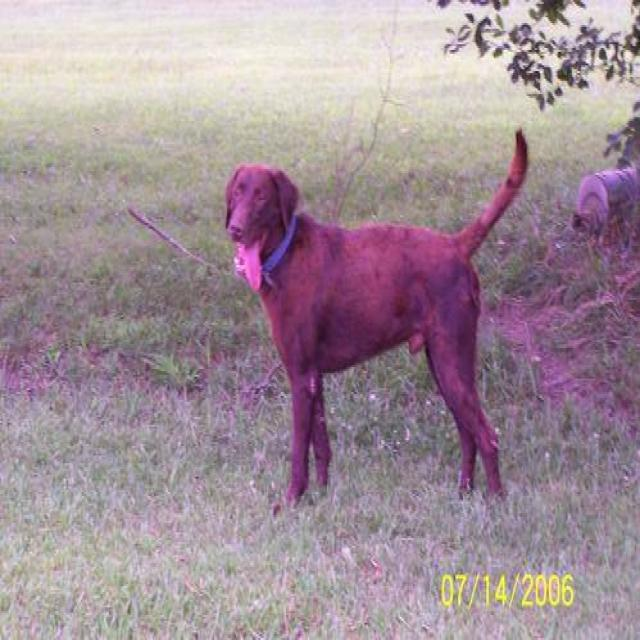dog: (223, 125, 529, 515)
